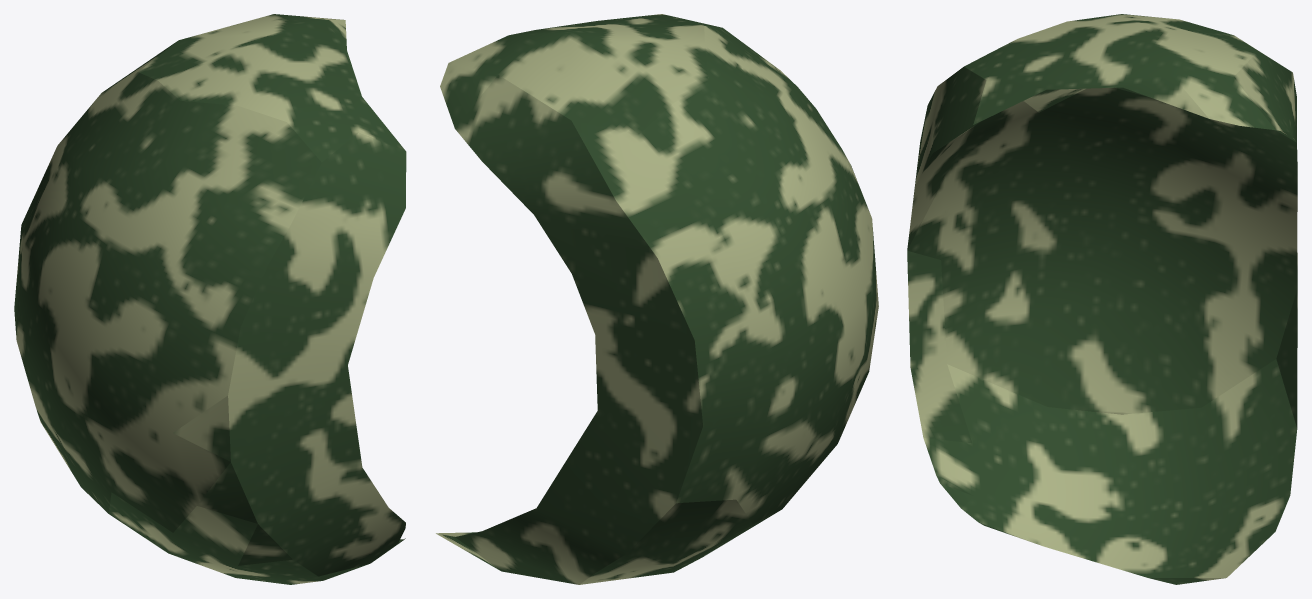
Rendered from link_body_07_composite.obj.
The picture shows the model from 3 angles, left to right: view 1: azimuth 30°, elevation 25°; view 2: azimuth 150°, elevation 25°; view 3: azimuth 270°, elevation 25°; orthographic projection. The views are drawn at different scales.
Parts seen in each view (by area): view 1: link_body_07; view 2: link_body_07; view 3: link_body_07.
Boxes of the visible parts, <box> form: link_body_07: <box>14,14,406,584</box>; link_body_07: <box>436,14,878,584</box>; link_body_07: <box>907,14,1297,584</box>.
Bounding box in the file's own units: 12.29 × 17.68 × 11.97.
1 material, 1 textured.
